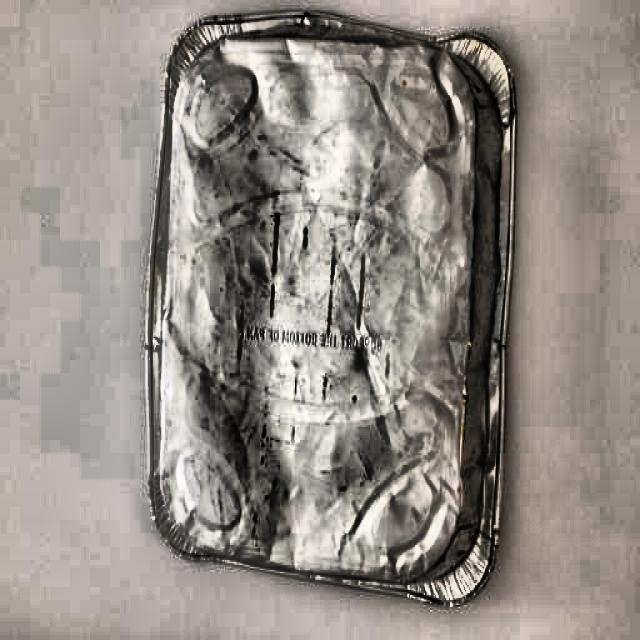metal: (149, 3, 518, 614)
